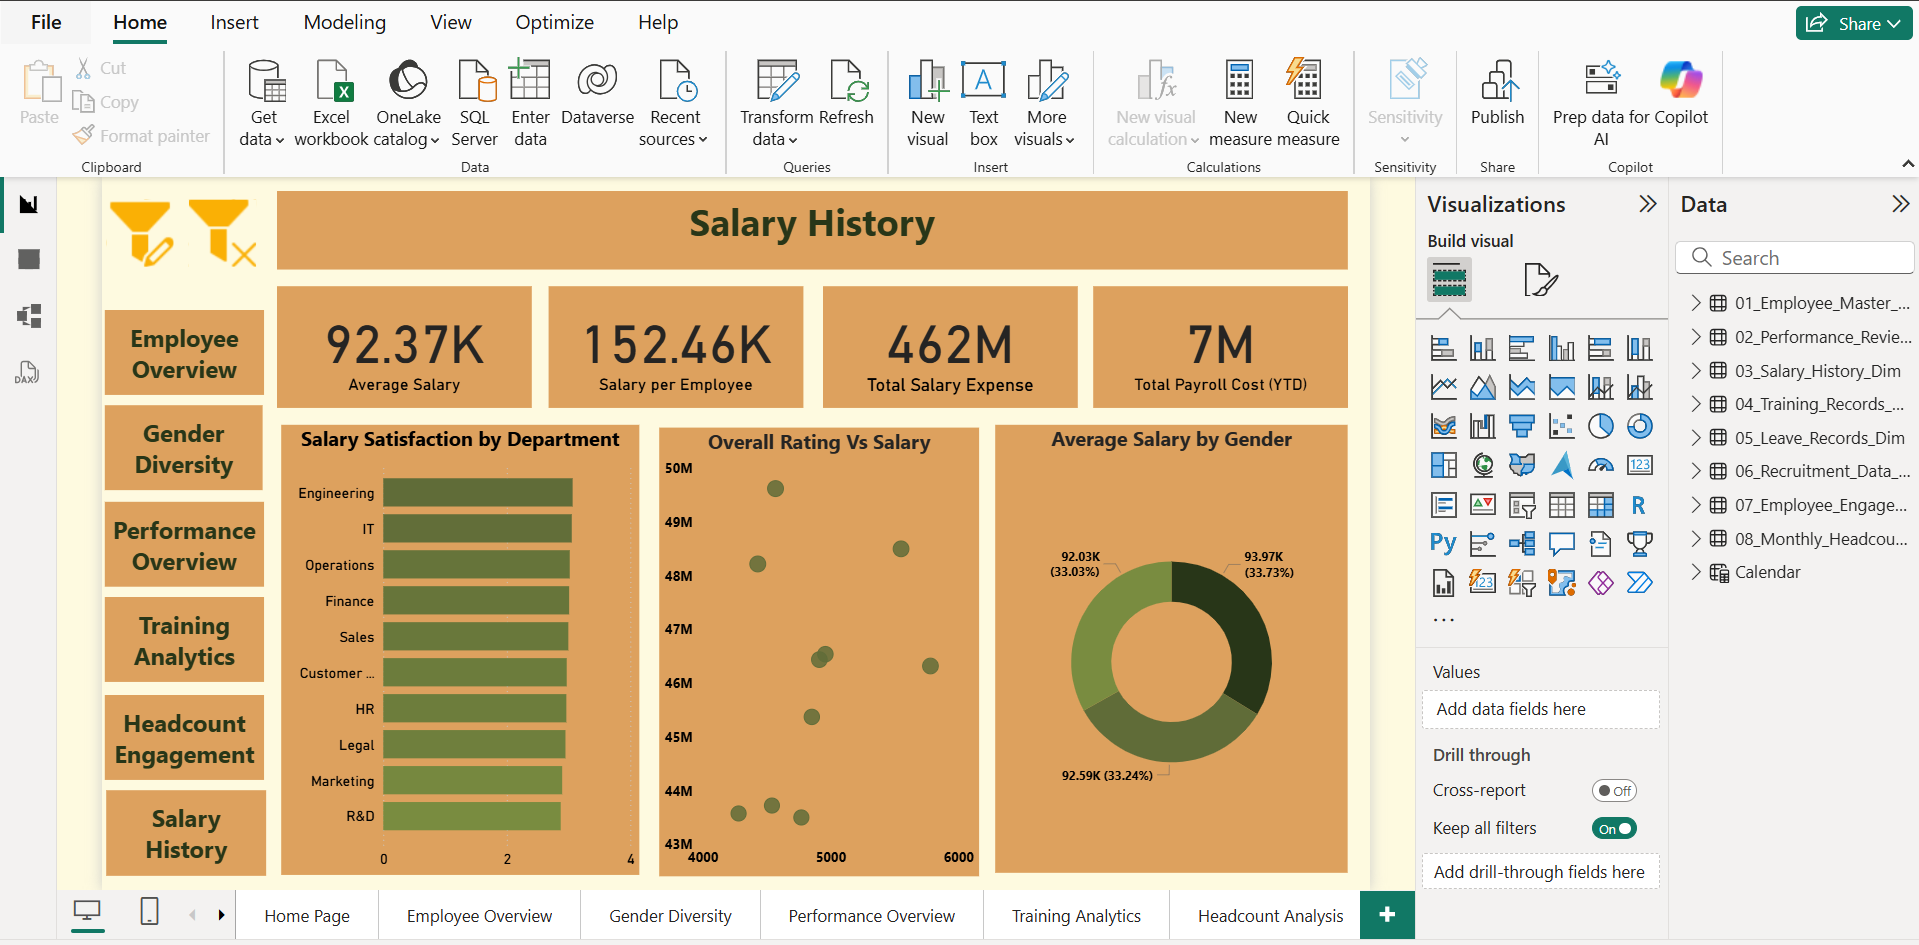

Layout of this report page (visuals, bound fields, positions):
{"tool":"powerbi","page":{"name":"Salary History","canvas":[1280,720],"ordinal":6},"visuals":[{"type":"actionButton","box":[2.9,134.2,160.6,85.4],"z":0,"group":"g1"},{"type":"clusteredBarChart","title":"Salary Satisfaction by Department","fields":{"Category":["01_Employee_Master_Fact.Department"],"Y":["03_Salary_History_Dim.Avg Satisfaction"]},"box":[181.4,250.7,361.3,454.3],"z":0},{"type":"card","fields":{"Values":["03_Salary_History_Dim.Total Salary Expense"]},"box":[727.6,110.2,257.1,122.9],"z":1000},{"type":"actionButton","box":[2.9,229.9,159.2,85.4],"z":1000,"group":"g1"},{"type":"card","fields":{"Values":["03_Salary_History_Dim.Average Salary"]},"box":[176.6,110.2,257.1,122.9],"z":2000},{"type":"actionButton","box":[2.9,523,160.6,85.4],"z":2000,"group":"g1"},{"type":"textbox","box":[176.6,14.1,1080.9,79.1],"z":3000},{"type":"actionButton","box":[2.9,424.3,160.6,85.4],"z":3000,"group":"g1"},{"type":"card","fields":{"Values":["03_Salary_History_Dim.Salary per Employee"]},"box":[450.7,110.2,257.1,122.9],"z":4000},{"type":"actionButton","box":[2.9,327.1,160.6,85.4],"z":4000,"group":"g1"},{"type":"card","fields":{"Values":["03_Salary_History_Dim.Total Payroll Cost (YTD)"]},"box":[1000.3,110.2,257.1,122.9],"z":5000},{"type":"actionButton","box":[3.7,618.6,161.4,86.4],"z":5000,"group":"g1"},{"type":"donutChart","fields":{"Category":["01_Employee_Master_Fact.Gender"],"Y":["03_Salary_History_Dim.Average Salary"]},"box":[901.4,250.1,356,452.1],"z":6000},{"type":"scatterChart","title":"Overall Rating Vs Salary","fields":{"Size":["01_Employee_Master_Fact.Employee Count"],"X":["Sum(02_Performance_Reviews_Dim.OverallRating)"],"Y":["Sum(01_Employee_Master_Fact.Salary)"],"Series":["01_Employee_Master_Fact.Department"]},"box":[561.9,252.2,323,452.8],"z":7000},{"type":"group","id":"g1","title":"Menu Buttons","box":[2.9,134.2,162.2,570.8],"z":8000},{"type":"actionButton","box":[0,18.4,79.1,76.3],"z":9000},{"type":"actionButton","box":[83.3,17.7,79.8,76.2],"z":10000}]}

Visuals, with their boxes on the page's 1280x720 design canvas (x1, y1, x2, y2). These are canvas units, not pixel positions in the 1919x945 screenshot, which may show the page scaled, cropped or inside an application window:
actionButton: (3,134,164,220)
"Salary Satisfaction by Department" clusteredBarChart: (181,251,543,705)
card - 03_Salary_History_Dim.Total Salary Expense: (728,110,985,233)
actionButton: (3,230,162,315)
card - 03_Salary_History_Dim.Average Salary: (177,110,434,233)
actionButton: (3,523,164,608)
textbox: (177,14,1258,93)
actionButton: (3,424,164,510)
card - 03_Salary_History_Dim.Salary per Employee: (451,110,708,233)
actionButton: (3,327,164,412)
card - 03_Salary_History_Dim.Total Payroll Cost (YTD): (1000,110,1257,233)
actionButton: (4,619,165,705)
donutChart - 01_Employee_Master_Fact.Gender x 03_Salary_History_Dim.Average Salary: (901,250,1257,702)
"Overall Rating Vs Salary" scatterChart: (562,252,885,705)
"Menu Buttons" group: (3,134,165,705)
actionButton: (0,18,79,95)
actionButton: (83,18,163,94)
